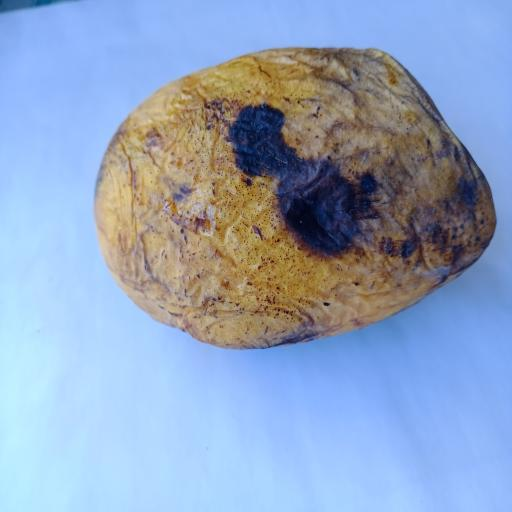mango-overripe: (82, 34, 511, 366)
